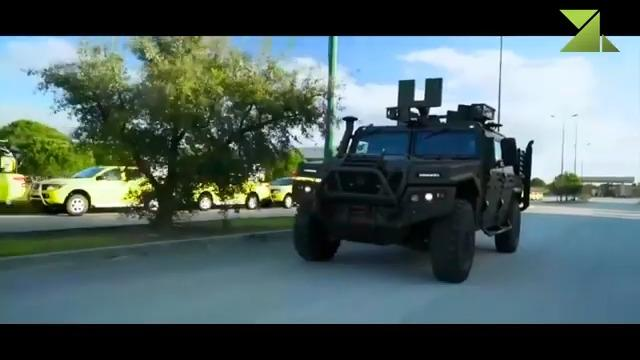MIL_HMMWV: (290, 113, 535, 284), (27, 162, 162, 215)
